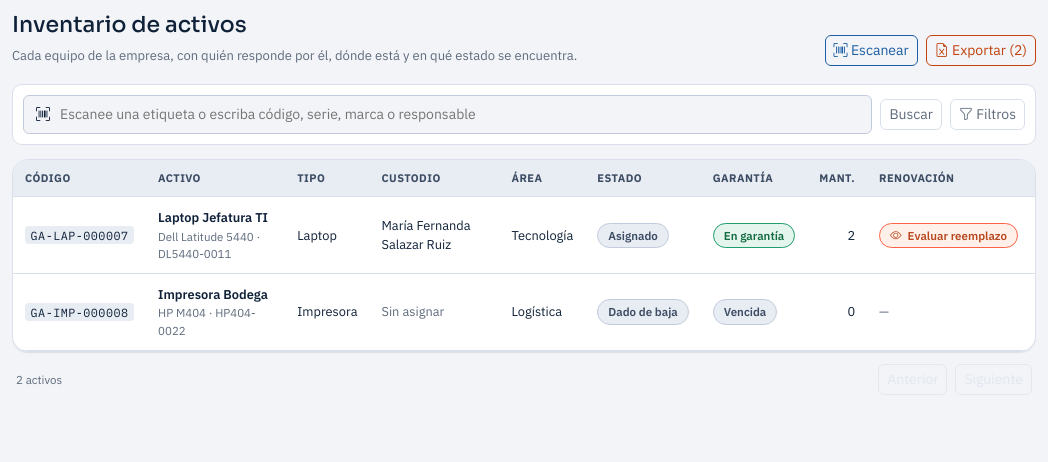
Scenario: Las acciones dependen del permiso › si la exportación falla lo dice y el botón vuelve a servir
The image size is (1048, 462).
Click the button "Exportar (2)" at x=981, y=50, box [926,35,1036,66]
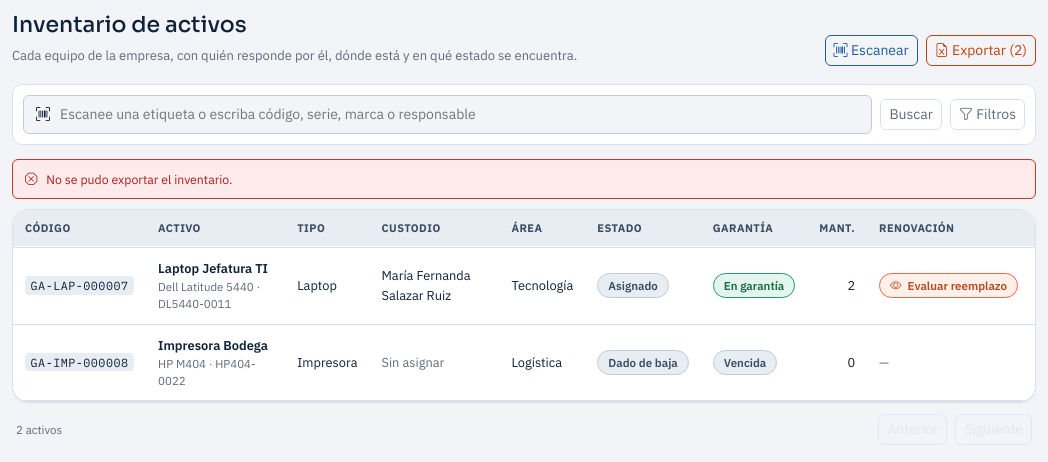
Now the text "No se pudo exportar el inventario." is shown, box [12,159,1036,199]
